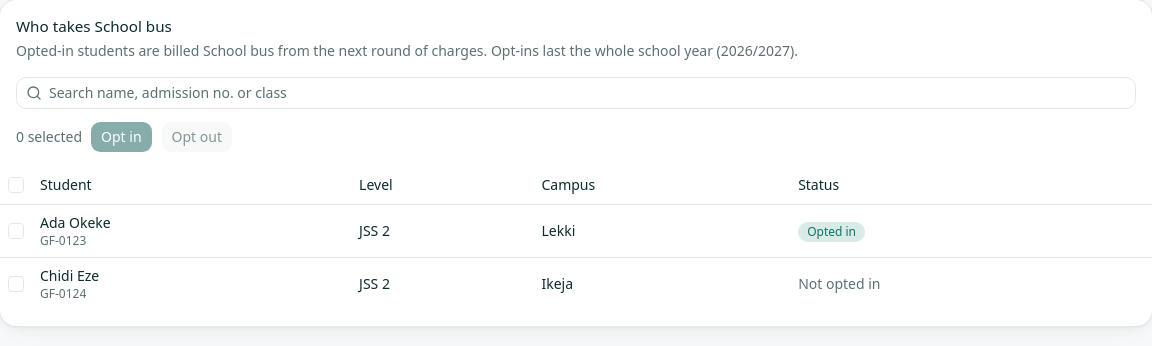
it: FeeOptInsCard › opts every listed student in after select all and toasts the count
Click the checkbox named "Select all": (16, 185) [8,177,24,193]
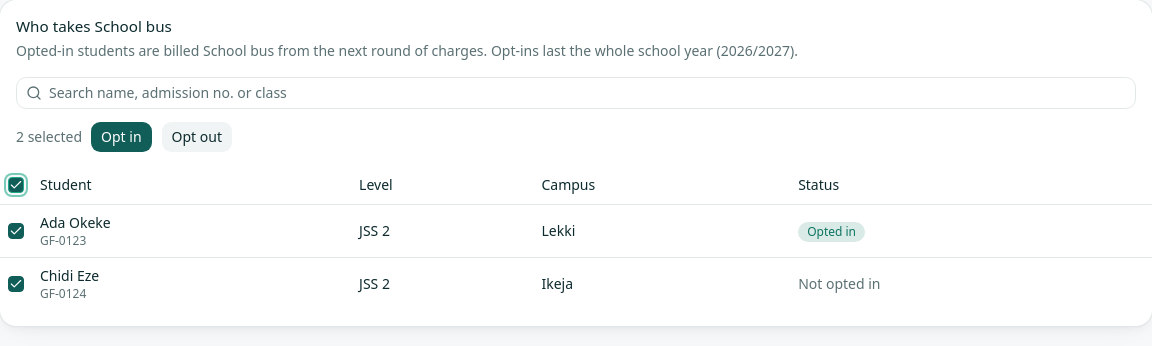
Check: the text "2 selected" is shown, box [16,127,82,147]
Click the button "Opt in": (121, 137) [90,121,152,153]
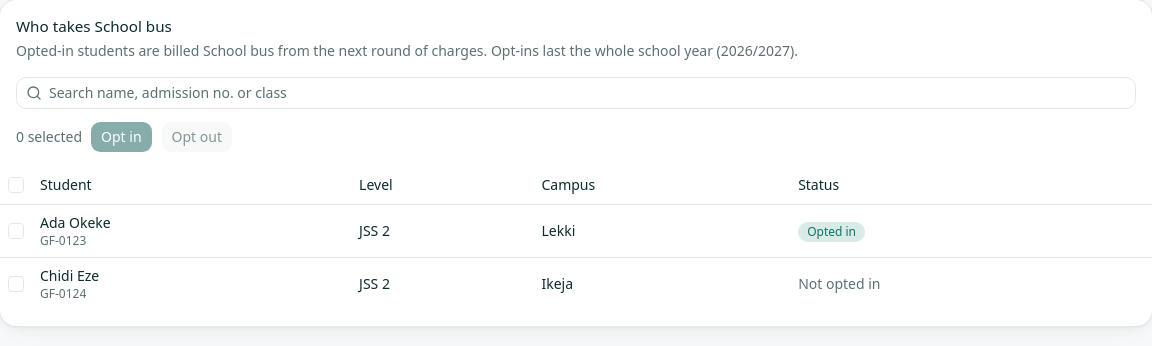
Check: the text "0 selected" is shown, box [16,127,82,147]
